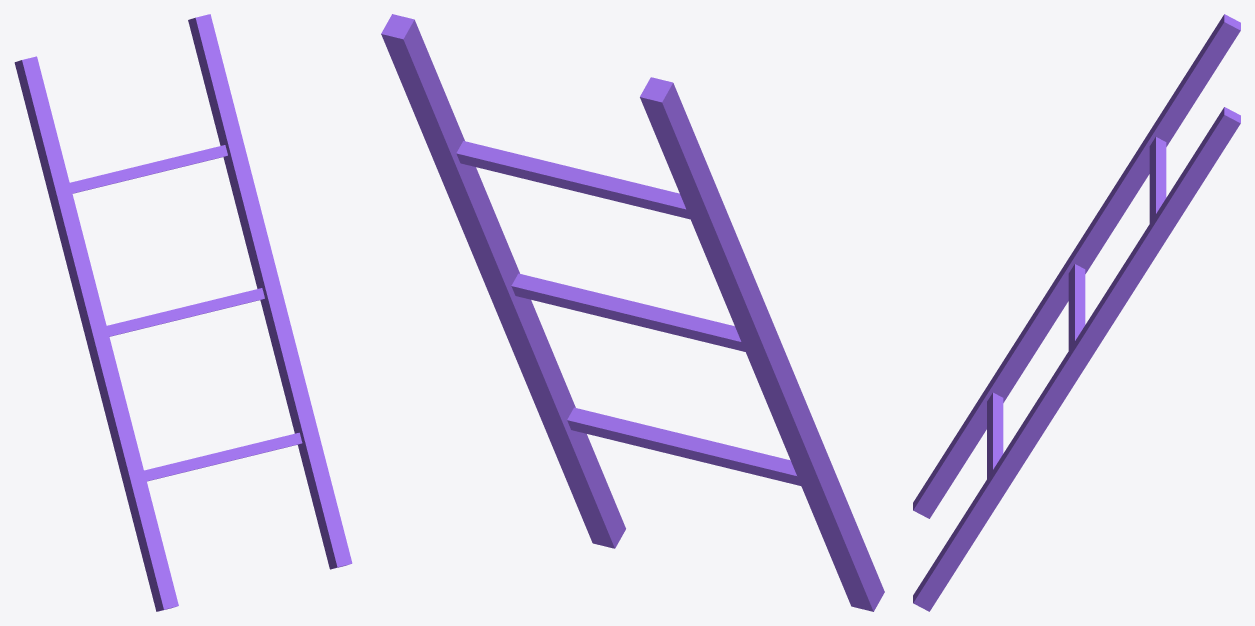
File: Building_017_e.fbx
3 views of the same model, side by side, from view 1: azimuth 30°, elevation 25°; view 2: azimuth 150°, elevation 25°; view 3: azimuth 270°, elevation 25° (orthographic). The views are drawn at different scales.
Parts seen in each view (by area): view 1: Building_017_e; view 2: Building_017_e; view 3: Building_017_e.
Boxes of the visible parts, x1=… form: Building_017_e: x1=14, y1=14, x2=352, y2=611; Building_017_e: x1=381, y1=14, x2=884, y2=611; Building_017_e: x1=913, y1=14, x2=1240, y2=611.
Bounding box in the file's own units: 2.52 × 5.78 × 3.46.
